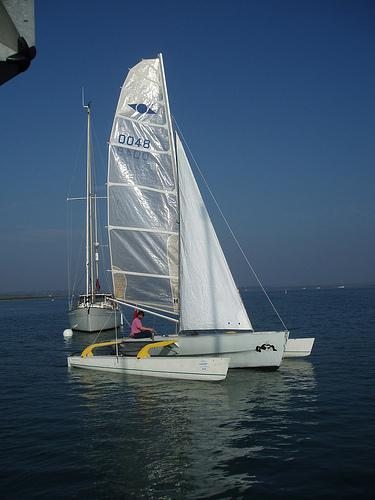Ship: (67, 52, 317, 384), (69, 87, 124, 332)
